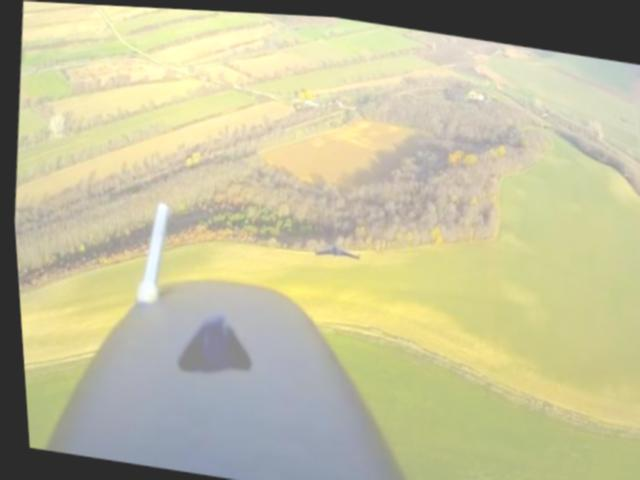iha: (312, 240, 356, 258)
